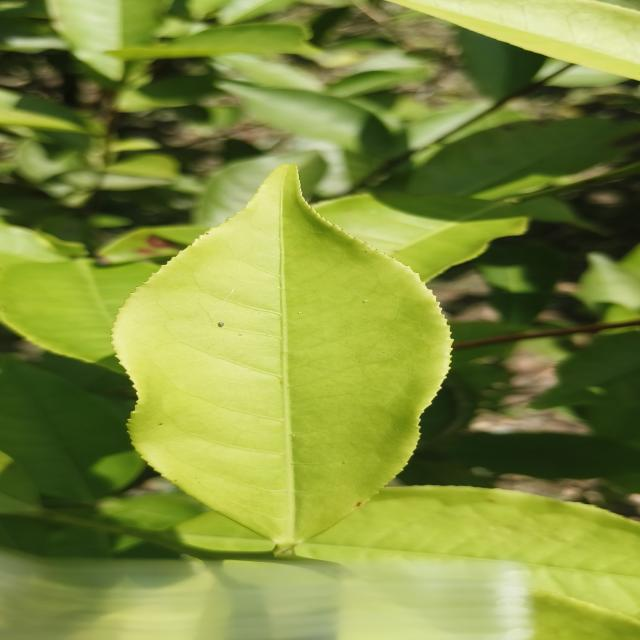Leaf: (113, 165, 450, 553), (296, 486, 640, 618), (0, 354, 146, 504), (380, 117, 640, 199), (392, 0, 640, 80), (314, 190, 528, 281), (0, 258, 159, 362), (218, 80, 390, 152), (192, 150, 327, 227), (46, 0, 163, 81), (444, 433, 640, 479), (535, 332, 640, 408), (107, 23, 315, 60), (476, 244, 561, 324), (458, 28, 545, 100), (116, 73, 216, 112), (175, 511, 272, 551), (0, 89, 86, 133), (326, 68, 425, 98)
